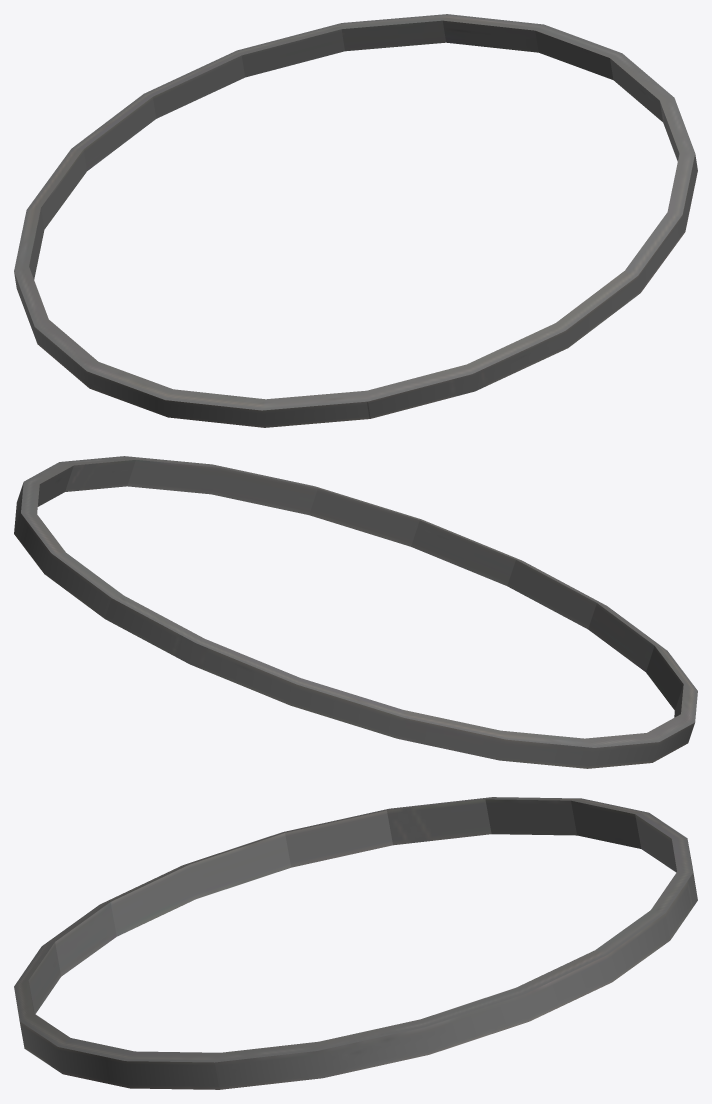
File: celestialPrism_innerRing001.glb
3 renders of one model, top to bottom at view 1: azimuth 30°, elevation 25°; view 2: azimuth 150°, elevation 25°; view 3: azimuth 270°, elevation 25°, orthographic. The views are drawn at different scales.
Visible parts, largest first — view 1: polySurface23; view 2: polySurface23; view 3: polySurface23.
Boxes of the visible parts, x1,y1,x2,y2 form: polySurface23: (14, 14, 697, 427); polySurface23: (14, 456, 697, 768); polySurface23: (14, 797, 697, 1089).
Bounding box in the file's own units: 0.3262 × 0.0861 × 0.2551.
1 material, 1 textured.
